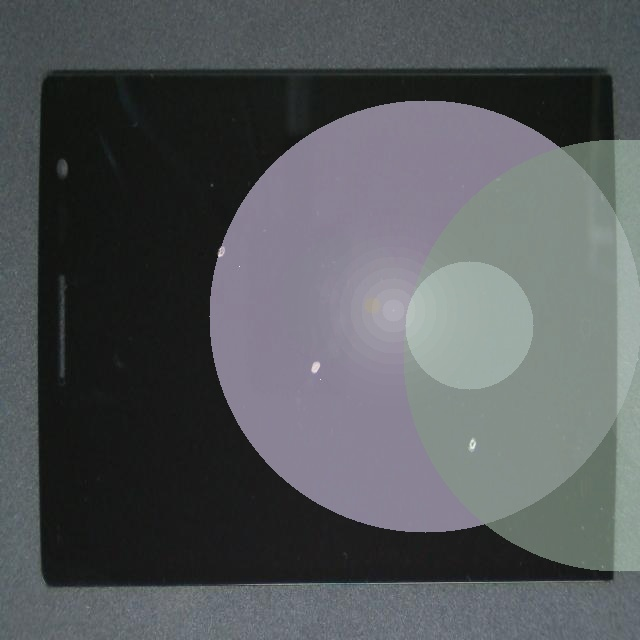stain: (240, 250, 640, 640), (133, 142, 456, 576), (79, 115, 326, 407)
